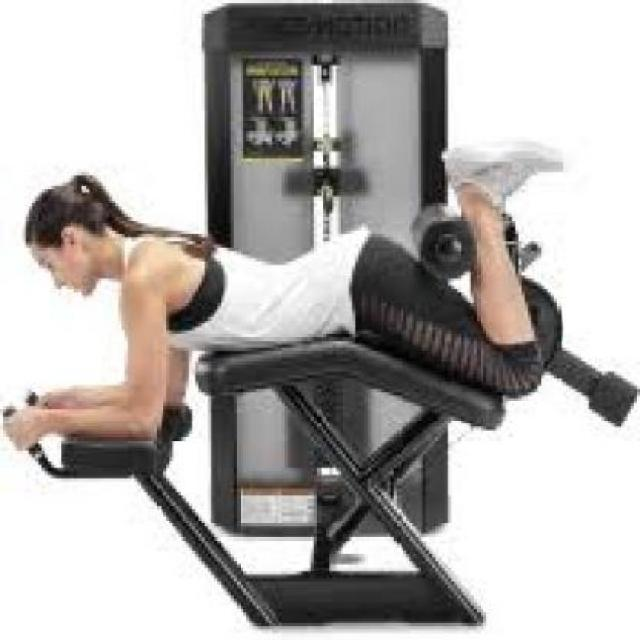reg curl machine: (1, 6, 640, 624)
